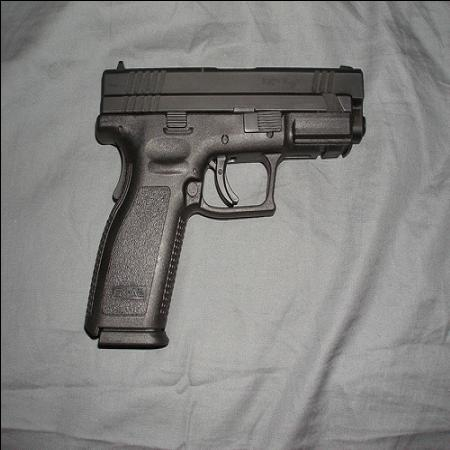Pistol: (82, 58, 366, 350)
